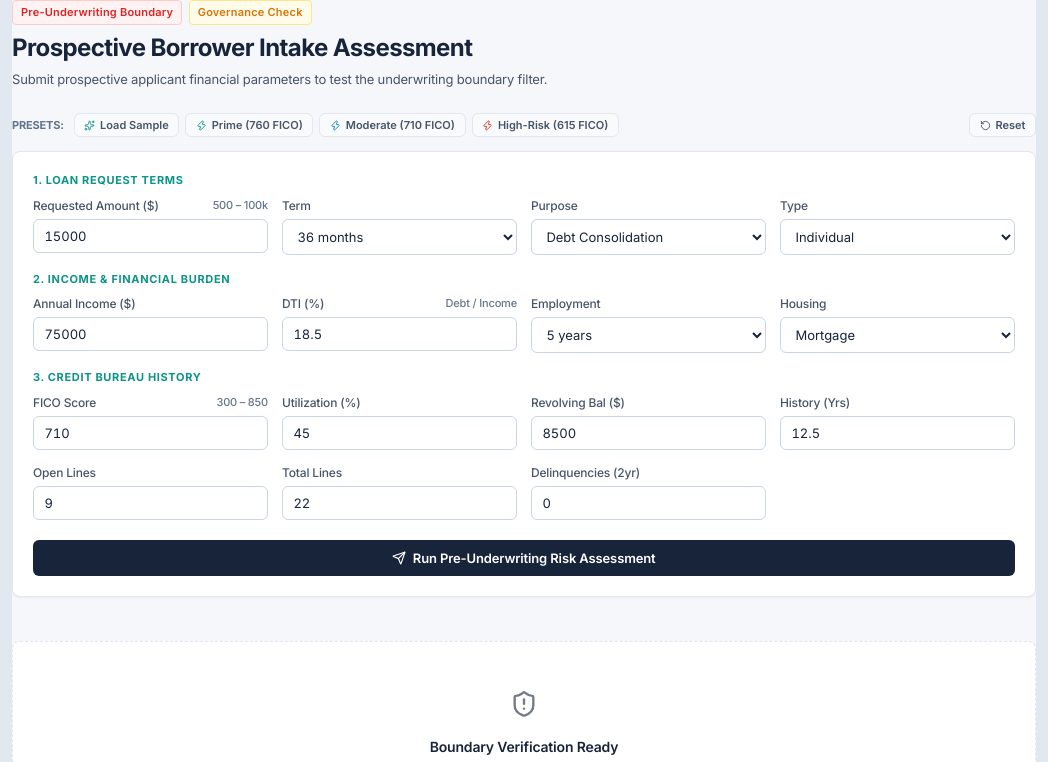
it: ApplicantAssessmentPage › populates fields when clicking Load Sample button
Click the button "Load Sample" at (126, 125), box top-left (74, 113), bottom-right (179, 137)
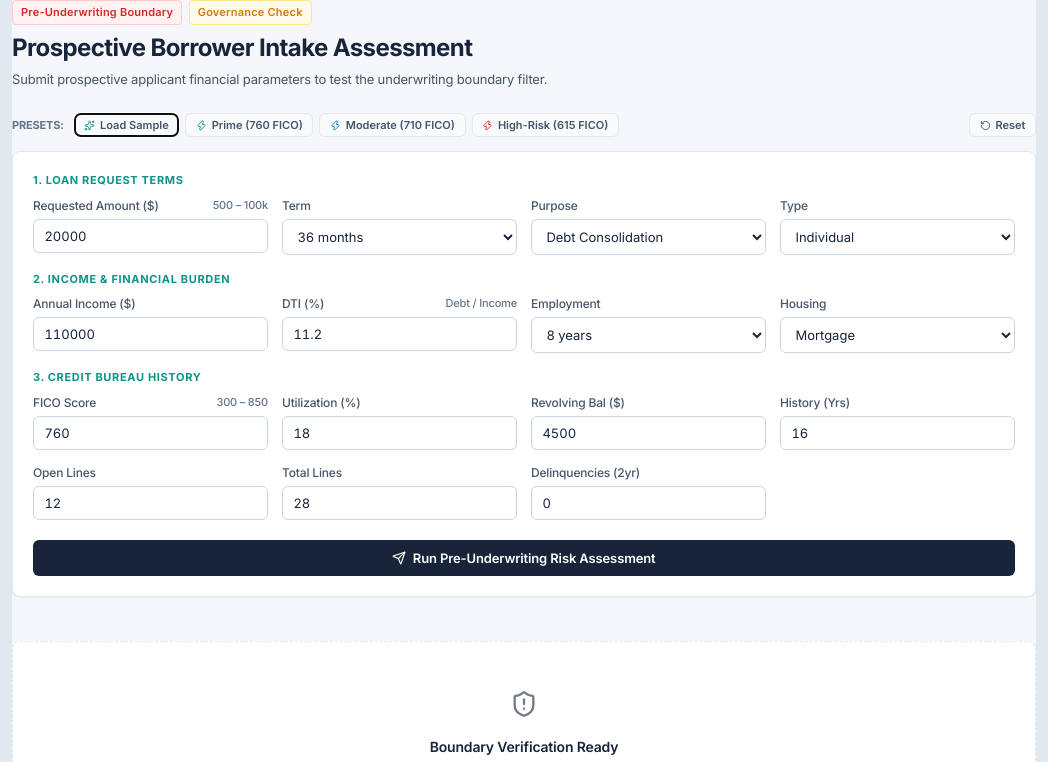
expect the number field labelled "Requested Amount ($) 500 – 100k" holds "20000": met, box top-left (33, 219), bottom-right (268, 253)
